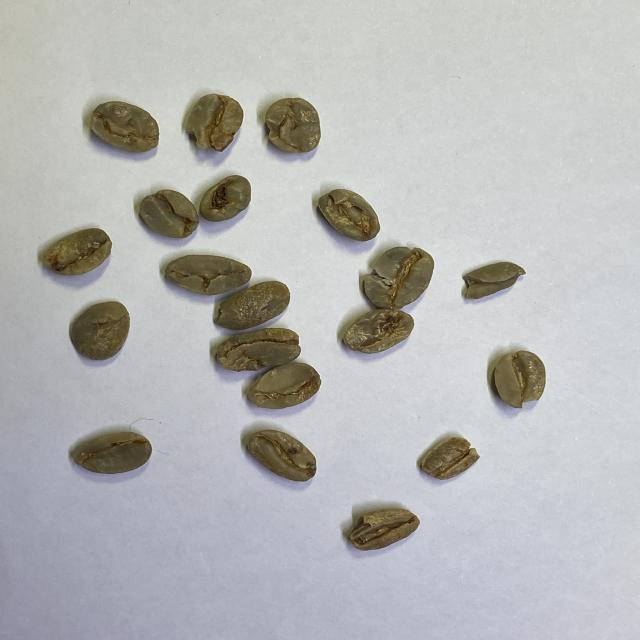bad: (357, 243, 436, 312), (65, 426, 158, 479), (243, 427, 320, 485), (211, 326, 304, 373), (243, 359, 324, 412), (210, 279, 293, 330), (68, 297, 132, 363), (161, 252, 253, 297), (314, 186, 384, 245), (88, 99, 162, 154), (42, 225, 116, 280), (135, 185, 205, 242), (488, 348, 550, 412), (182, 92, 245, 154), (263, 94, 324, 156), (341, 308, 418, 356), (347, 507, 424, 552), (452, 260, 529, 304), (416, 433, 483, 483), (197, 170, 254, 223)
